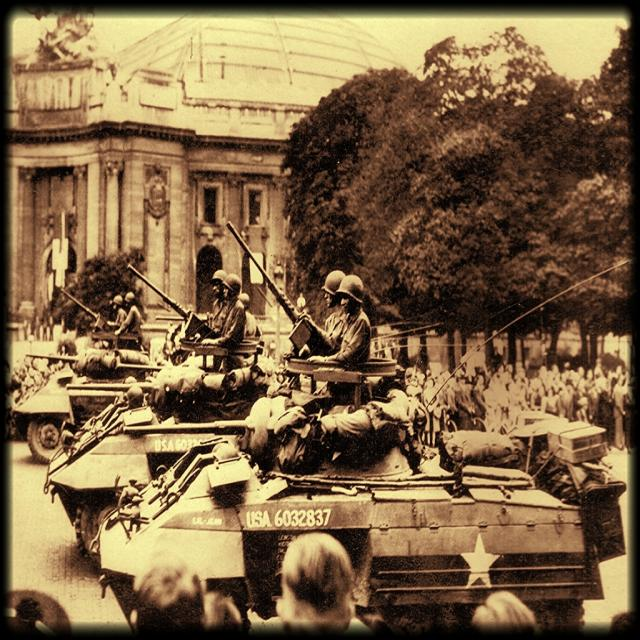tank: (11, 220, 628, 629)
